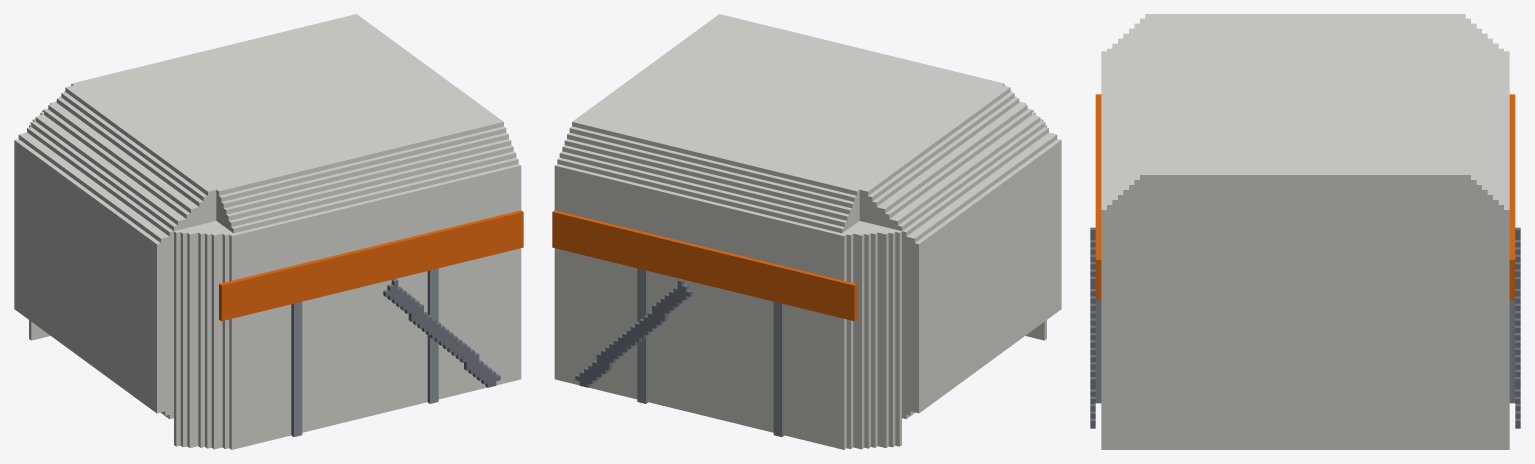
File: street_sweeper_hopper.glb
3 views of the same model, side by side, from view 1: azimuth 30°, elevation 25°; view 2: azimuth 150°, elevation 25°; view 3: azimuth 270°, elevation 25° (orthographic). The views are drawn at different scales.
Visible parts, largest first — view 1: body:compound; view 2: body:compound; view 3: body:compound.
Boxes of the visible parts, x1=… form: body:compound: x1=14, y1=14, x2=523, y2=449; body:compound: x1=552, y1=14, x2=1061, y2=449; body:compound: x1=1090, y1=14, x2=1520, y2=449.
Size of the model in its own units: 2.53 by 1.72 by 2.44.
